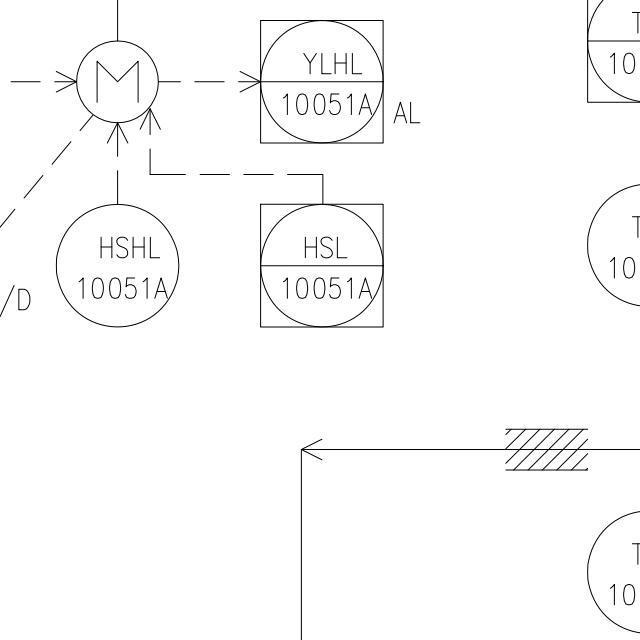M: (73, 38, 159, 125)
